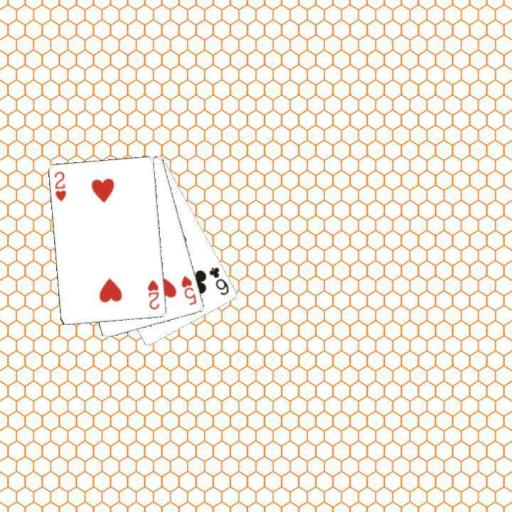card-corner: (206, 264, 230, 297), (178, 273, 198, 307), (144, 276, 162, 312), (51, 168, 68, 204)
